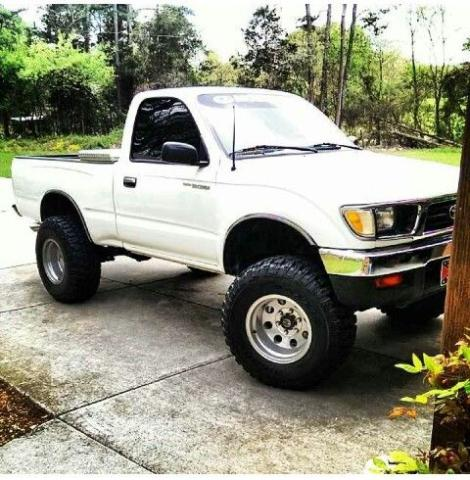pickup-truck: (9, 86, 460, 392)
